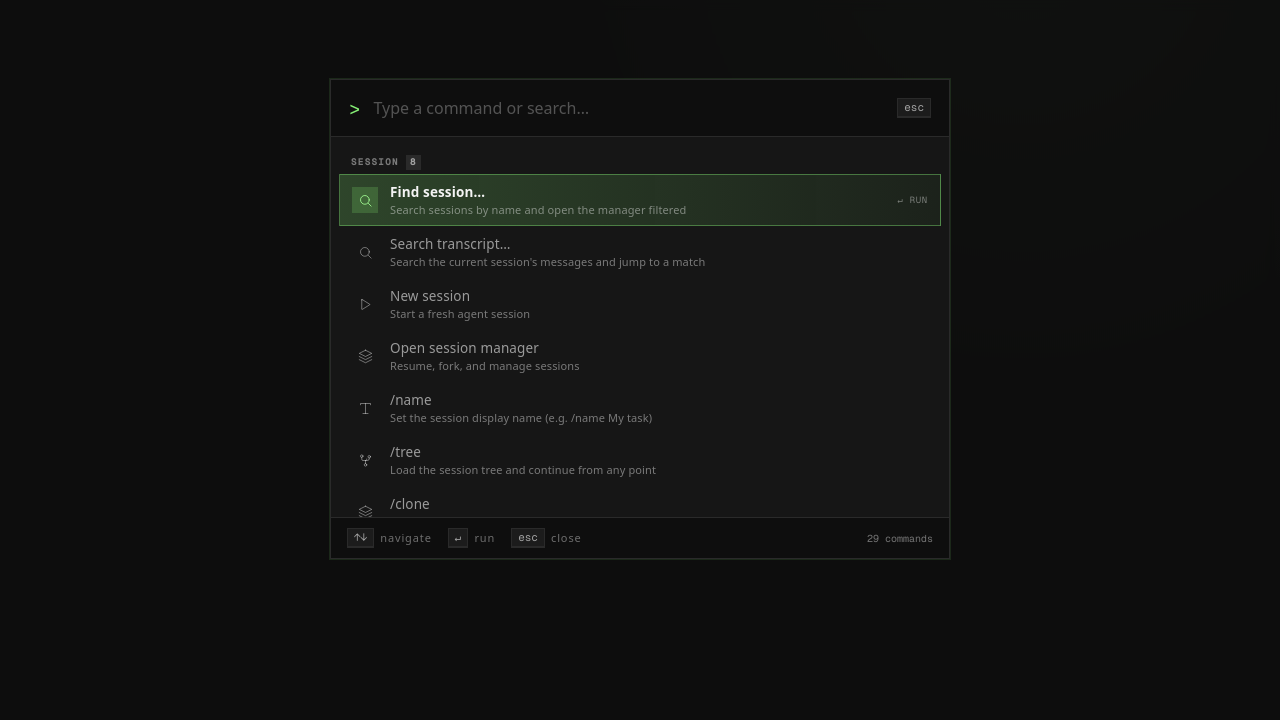
Test: CommandPalette › opens the search-transcript sub-mode and reports no messages when empty
What coordinates should you click on to do the following:
click the text "Search transcript…"
I would click on:
 (450, 244)
Its box is [390,235,510,253].
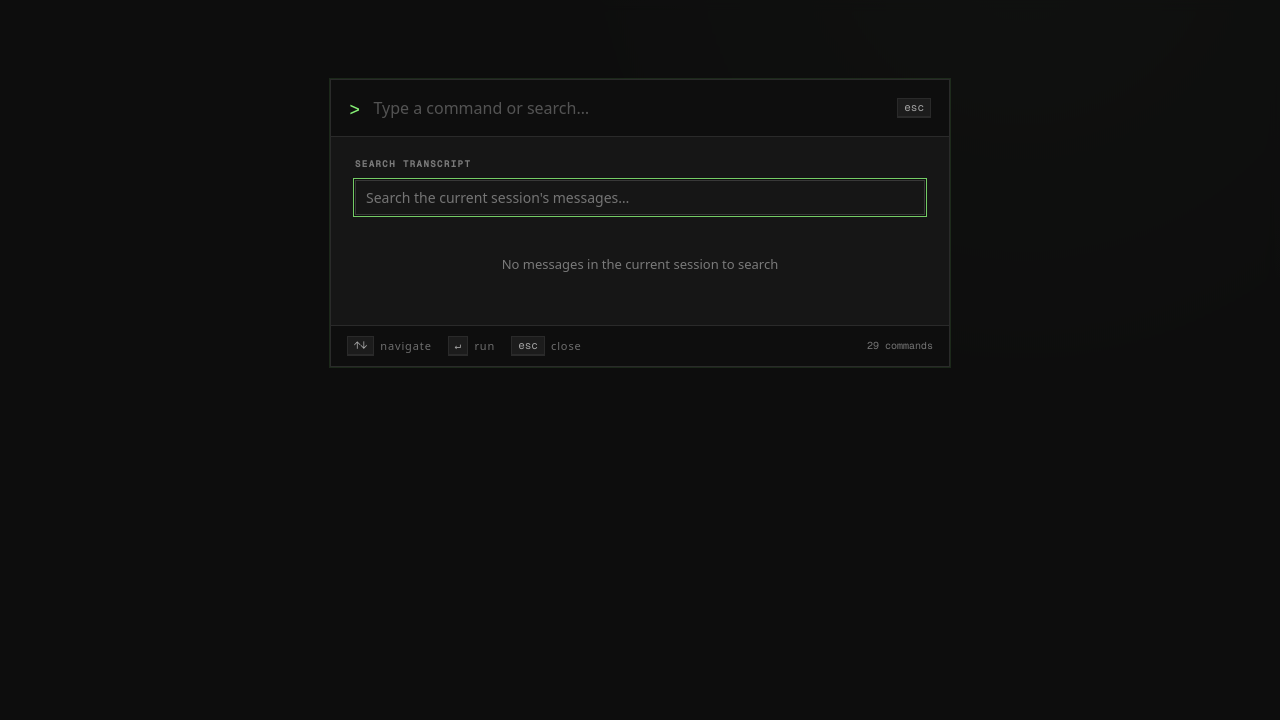
expect the text "No messages in the current session to search" is shown: met, box [502,255,778,273]
